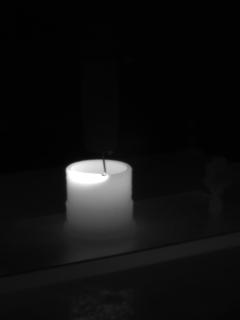tip_wire_left: (85, 147, 106, 175)
tip_wire_right: (104, 146, 118, 175)
